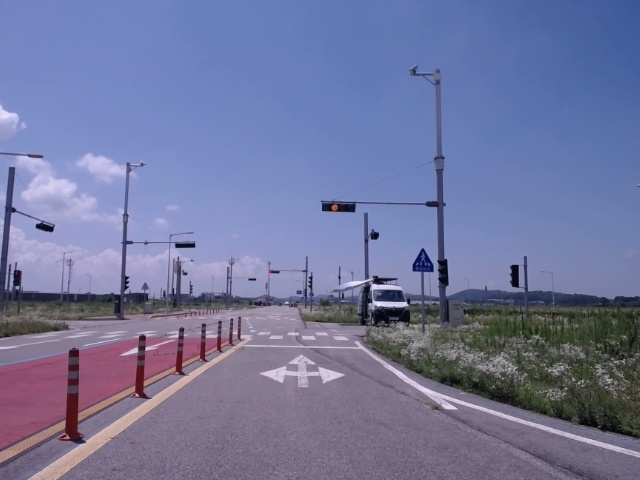orange_4: (320, 201, 357, 212)
